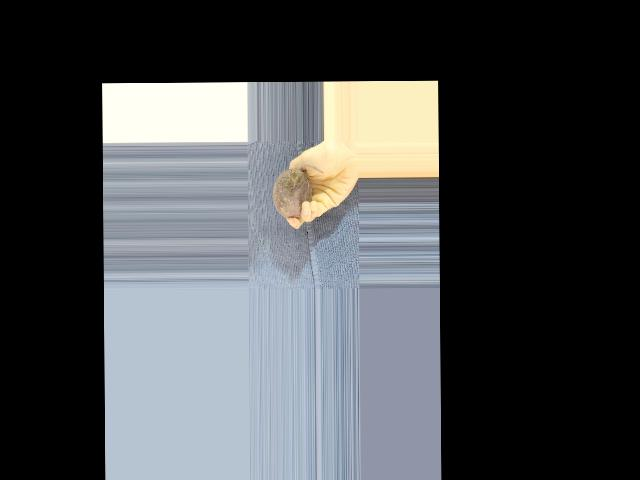beet: (273, 163, 324, 218)
